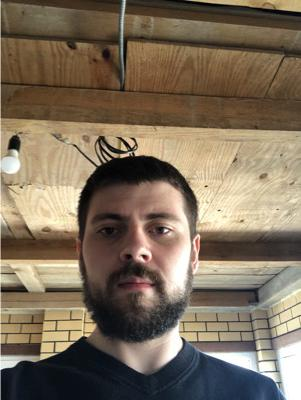without_mask: (83, 202, 186, 341)
